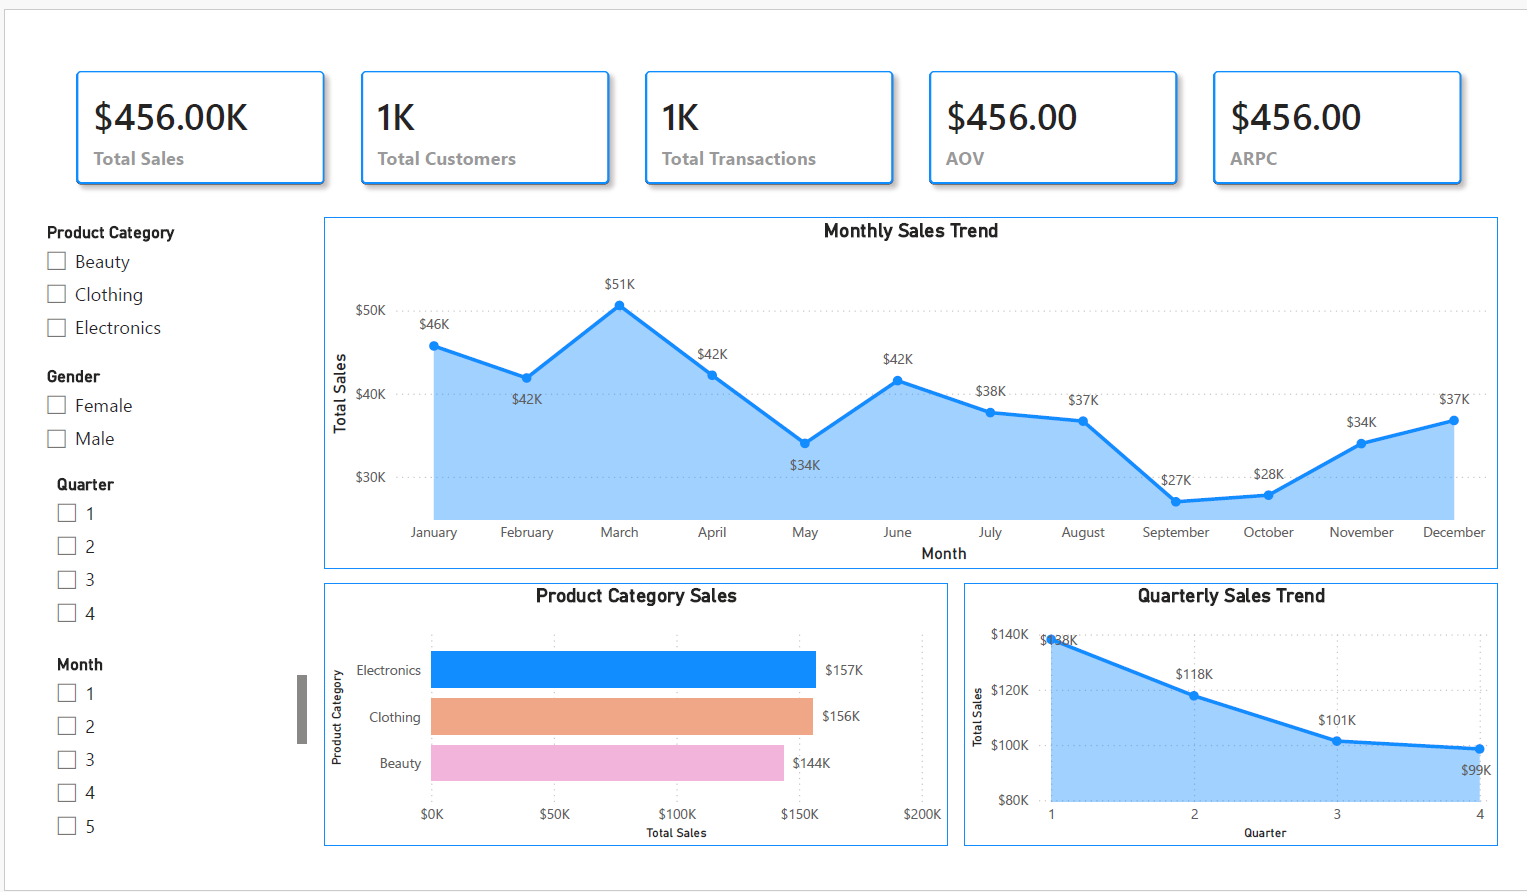

Layout of this report page (visuals, bound fields, positions):
{"tool":"powerbi","page":{"name":"Page 1","canvas":[1280,720],"ordinal":0},"visuals":[{"type":"cardVisual","fields":{"Data":["retail_analysis retail_sales.Total Sales","retail_analysis retail_sales.Total Customers","retail_analysis retail_sales.Total Transactions","retail_analysis retail_sales.AOV","retail_analysis retail_sales.ARPC"]},"box":[9.6,0,1269.4,157.8],"z":0},{"type":"lineChart","title":"Monthly Sales Trend","fields":{"Category":["retail_analysis retail_sales.Month_Name"],"Y":["retail_analysis retail_sales.Total Sales"]},"box":[254.3,157.1,1024.3,307.1],"z":1000},{"type":"clusteredBarChart","title":"Product  Category Sales","fields":{"Category":["retail_analysis retail_sales.Product Category"],"Y":["retail_analysis retail_sales.Total Sales"]},"box":[254.3,475.7,544.3,230],"z":2000},{"type":"lineChart","title":"Quarterly Sales Trend","fields":{"Category":["retail_analysis retail_sales.Quarter"],"Y":["retail_analysis retail_sales.Total Sales"]},"box":[812.9,475.7,465.7,230],"z":3000},{"type":"slicer","fields":{"Values":["retail_analysis retail_sales.Product Category"]},"box":[0,157.5,245.3,125.7],"z":5000},{"type":"slicer","fields":{"Values":["retail_analysis retail_sales.Gender"]},"box":[0,283.2,245.3,93.9],"z":6000},{"type":"slicer","fields":{"Values":["retail_analysis retail_sales.Quarter"]},"box":[8.6,377.1,245.7,145.7],"z":7000},{"type":"slicer","fields":{"Values":["retail_analysis retail_sales.Month"]},"box":[8.6,534.3,235.7,171.4],"z":8000}]}

Visuals, with their boxes in screenshot pixels (x1, y1, x2, y2):
cardVisual - retail_analysis retail_sales.Total Sales x retail_analysis retail_sales.Total Customers: l=51, t=0, r=1491, b=179
"Monthly Sales Trend" lineChart: l=328, t=178, r=1491, b=527
"Product  Category Sales" clusteredBarChart: l=328, t=540, r=946, b=801
"Quarterly Sales Trend" lineChart: l=962, t=540, r=1491, b=801
slicer - retail_analysis retail_sales.Product Category: l=40, t=179, r=318, b=321
slicer - retail_analysis retail_sales.Gender: l=40, t=321, r=318, b=428
slicer - retail_analysis retail_sales.Quarter: l=50, t=428, r=328, b=593
slicer - retail_analysis retail_sales.Month: l=50, t=606, r=317, b=801
